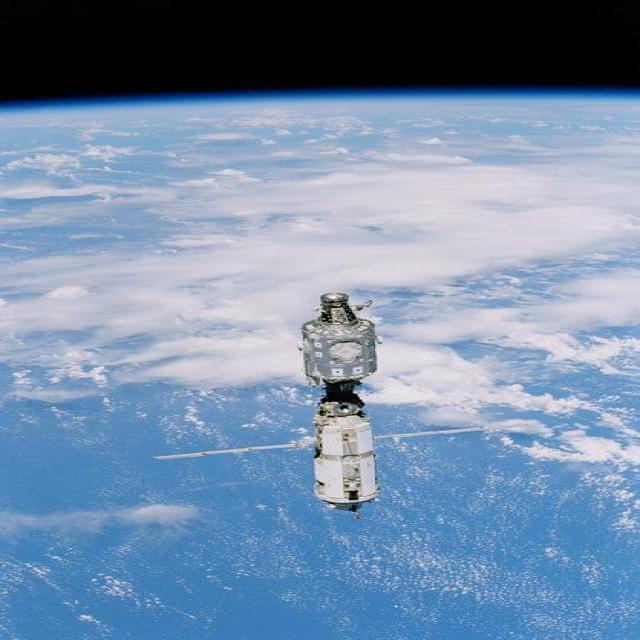medium_debris: (157, 292, 379, 509)
